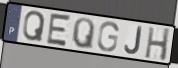E: (45, 12, 73, 49)
G: (96, 21, 120, 53)
H: (143, 26, 172, 63)
J: (124, 26, 143, 56)
Q: (71, 17, 96, 51), (22, 10, 47, 44)
